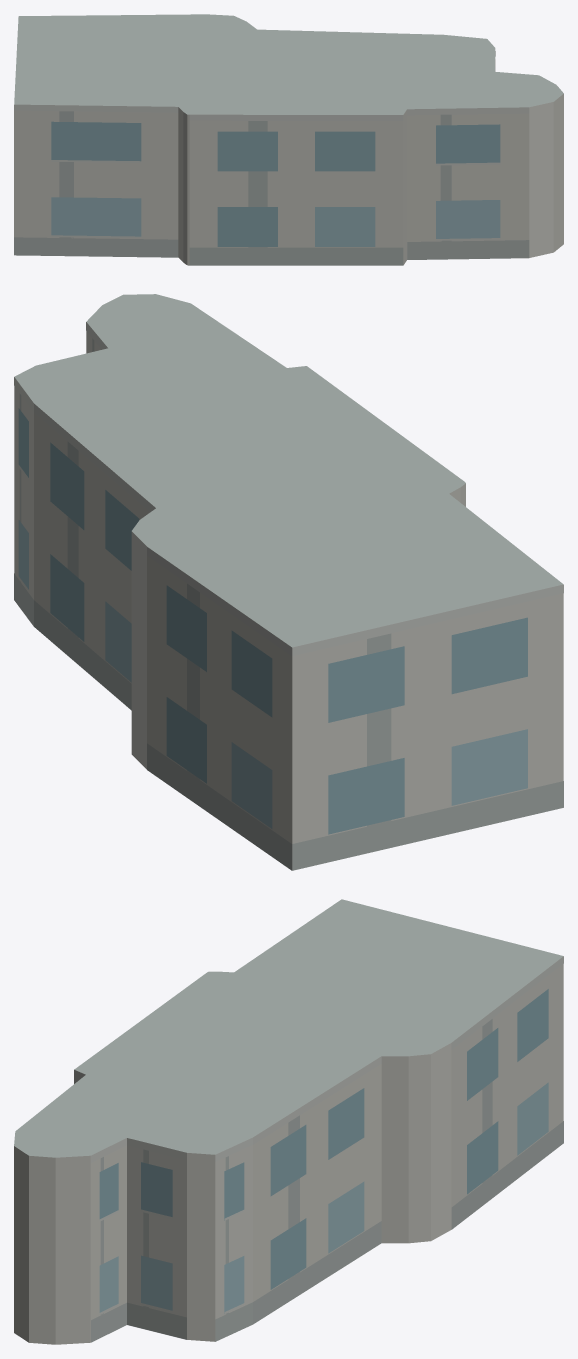
File: survey-upis-32705307.glb
3 renders of one model, top to bottom at view 1: azimuth 30°, elevation 25°; view 2: azimuth 150°, elevation 25°; view 3: azimuth 270°, elevation 25°, orthographic. The views are drawn at different scales.
Visible parts, largest first — view 1: survey-upis-32705307.tmp; view 2: survey-upis-32705307.tmp; view 3: survey-upis-32705307.tmp.
Boxes of the visible parts, x1,y1,x2,y2 form: survey-upis-32705307.tmp: (14,14,563,265); survey-upis-32705307.tmp: (14,294,563,870); survey-upis-32705307.tmp: (14,899,563,1344).
Size of the model in its own units: 18.08 by 6.1 by 16.26.
